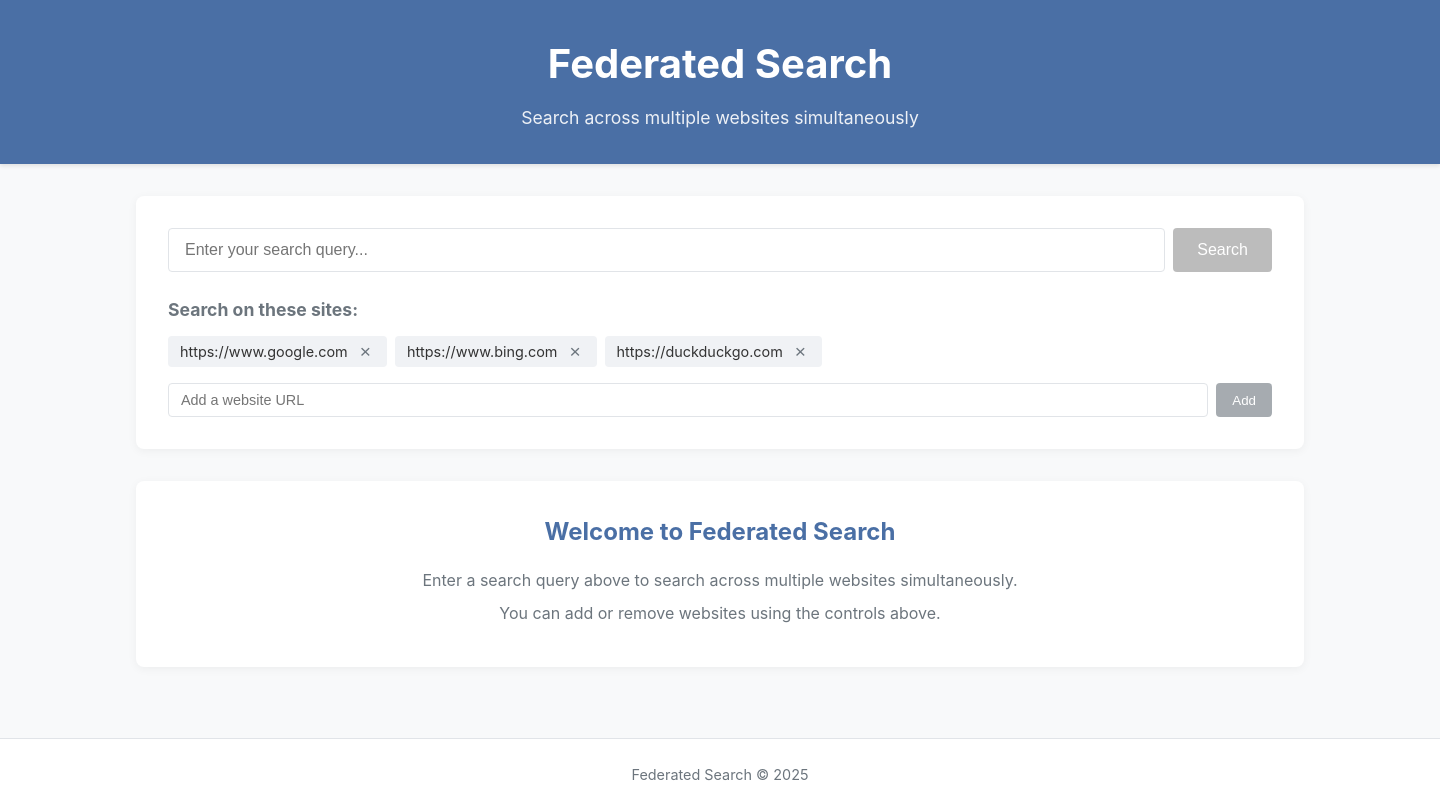
it: App › shows error message on failed search
Type "react" into the field with placeholder "Enter your search query..." at (667, 250), box top-left (168, 228), bottom-right (1165, 272)
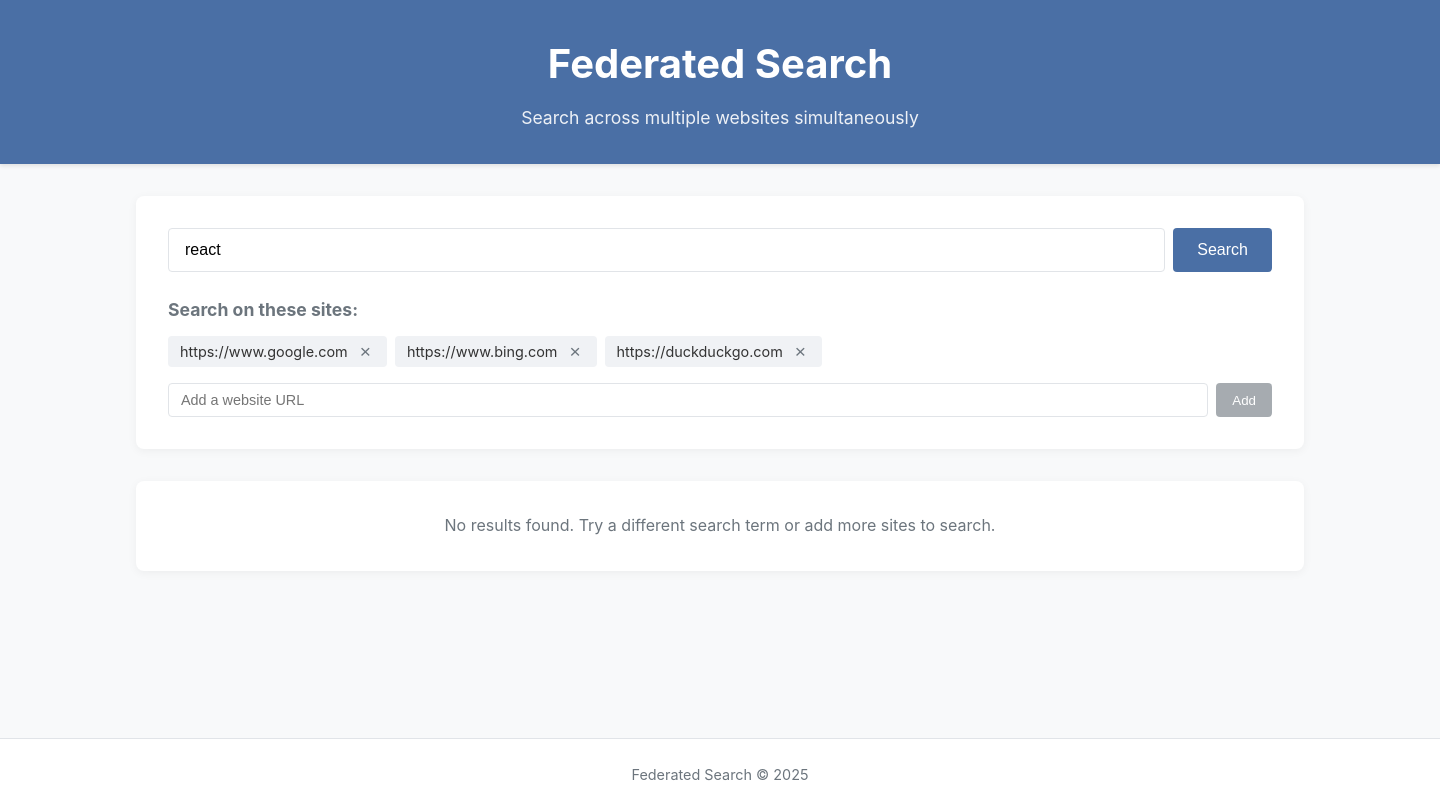
Click the button "Search" at (1223, 250), box top-left (1173, 228), bottom-right (1272, 272)
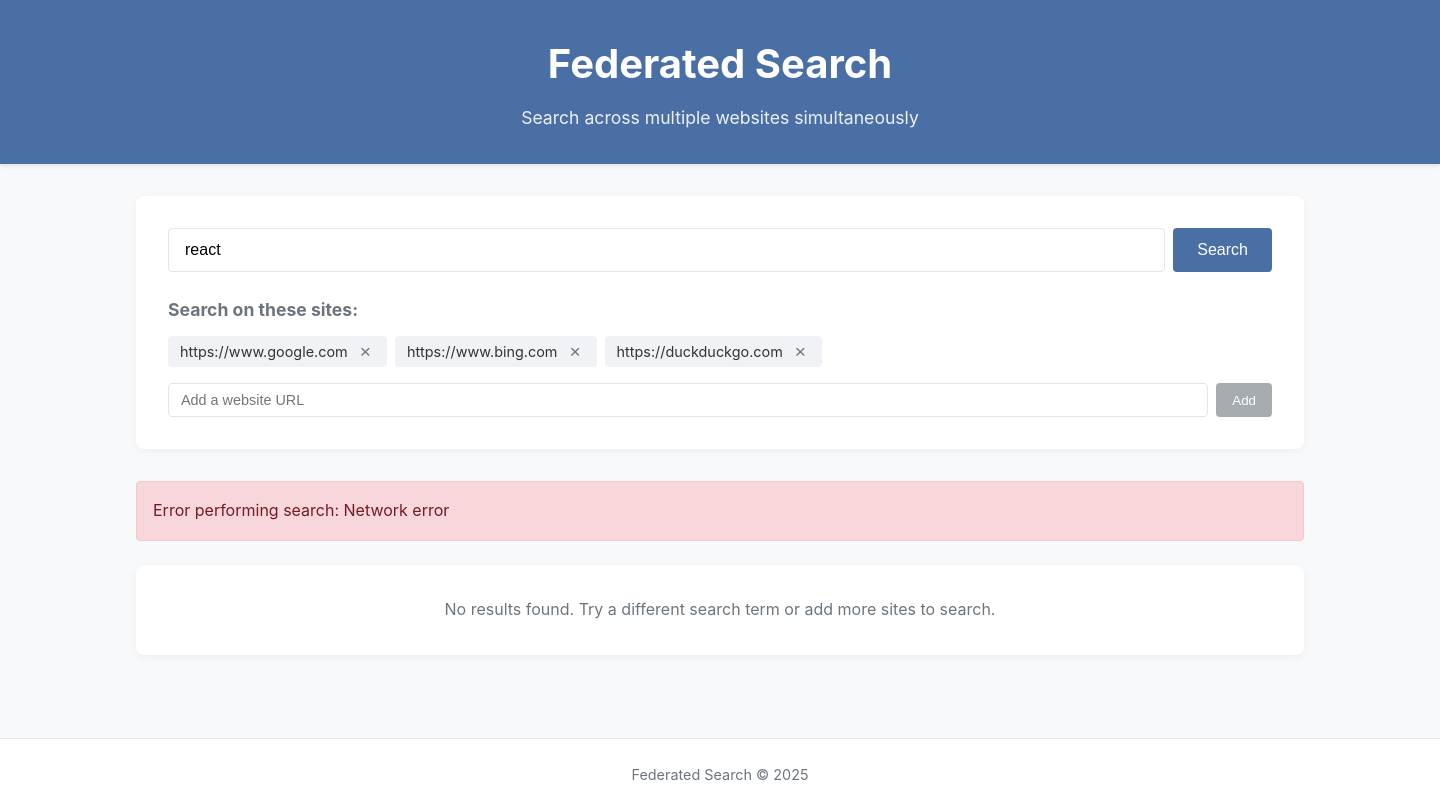
Expected: the text "Error performing search: Network error" is shown, top-left (136, 481), bottom-right (1304, 541)
